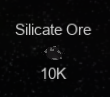Silicate: (14, 22, 92, 81)
